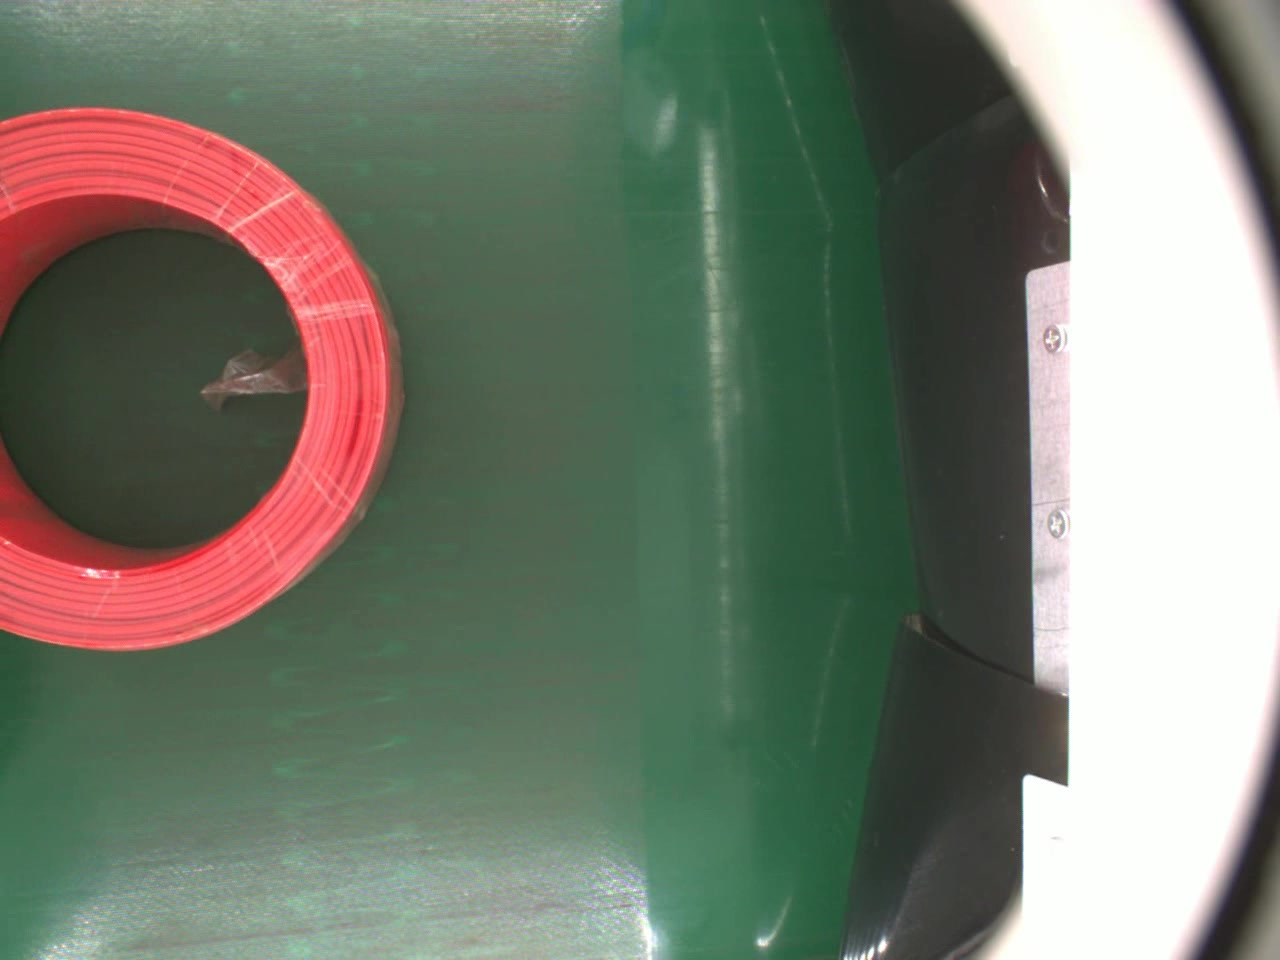red: (0, 101, 400, 650)
